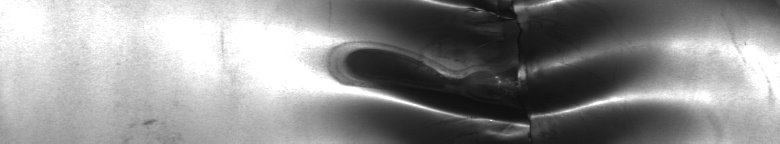ke: (316, 4, 776, 136)
